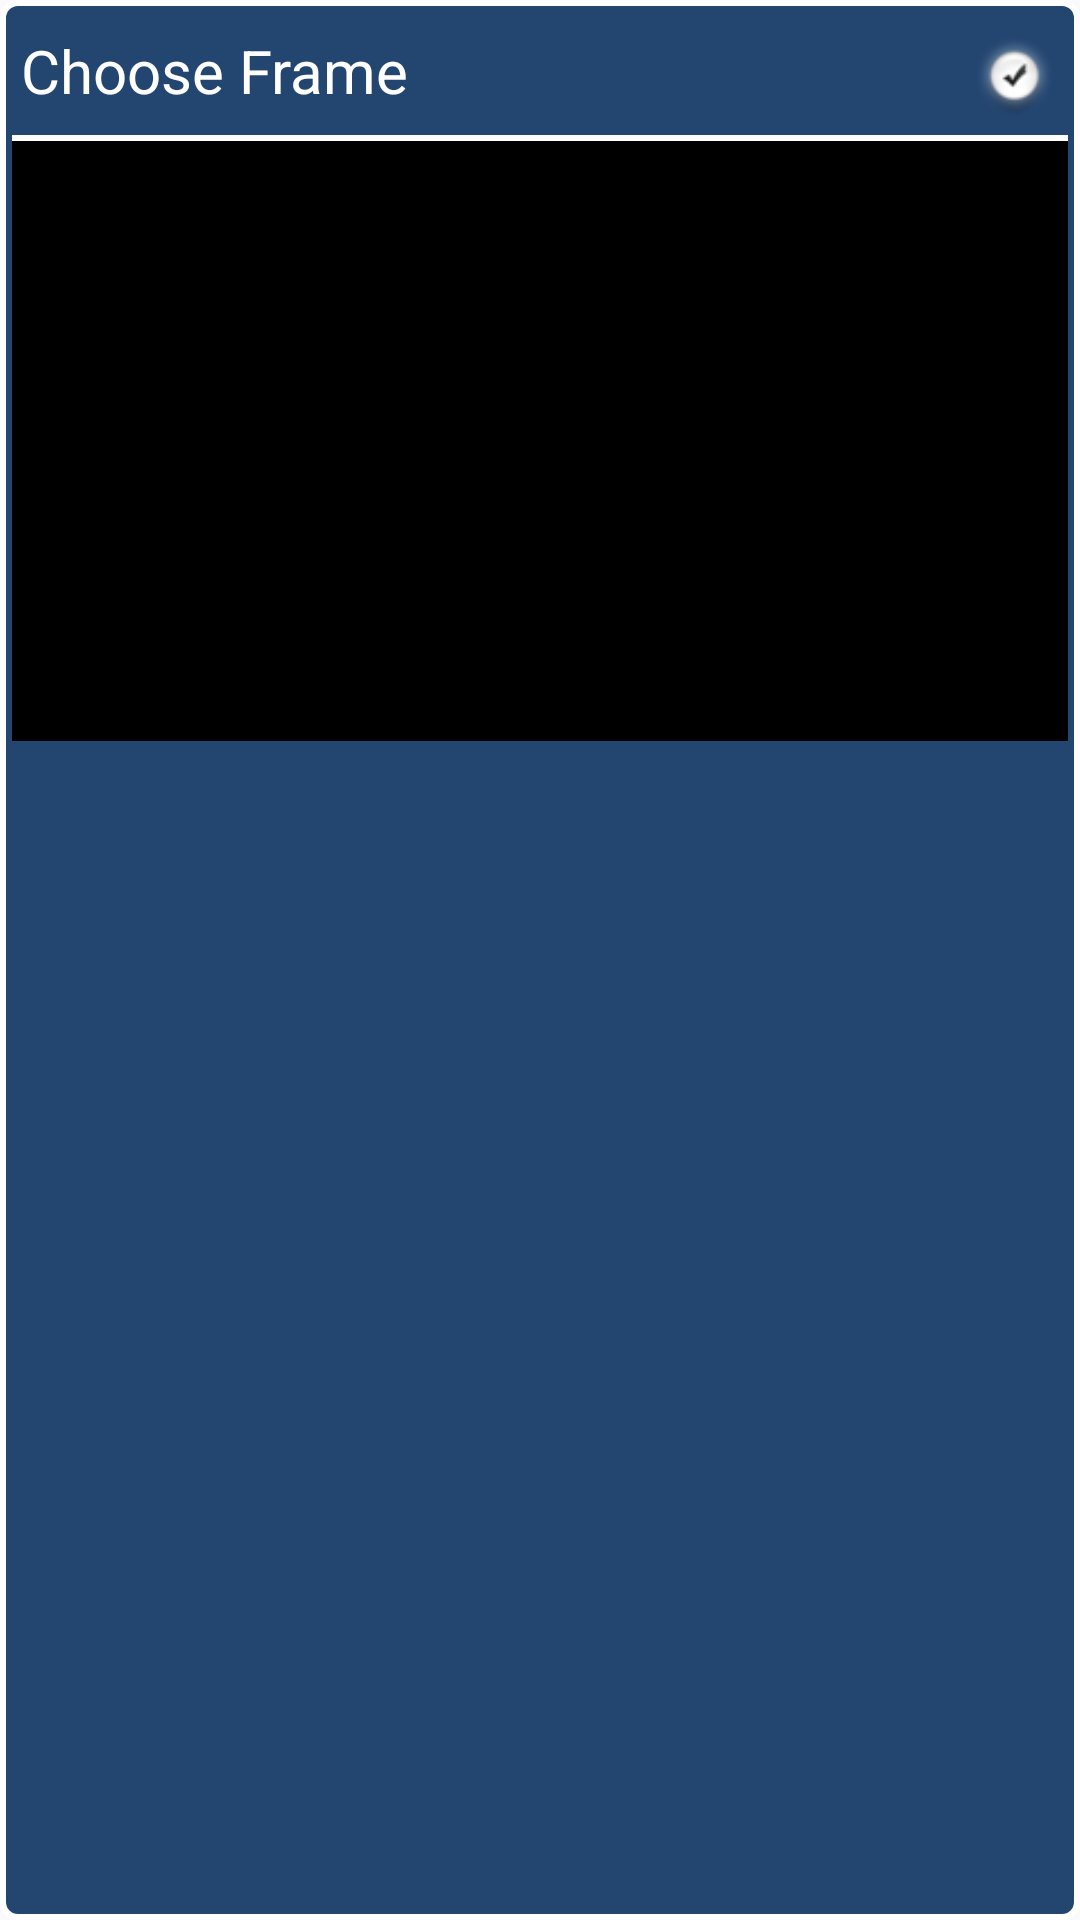

Where to tap for icons on this 1080px x 1920px app screen, as [x,y]:
tick: [1014,75]
